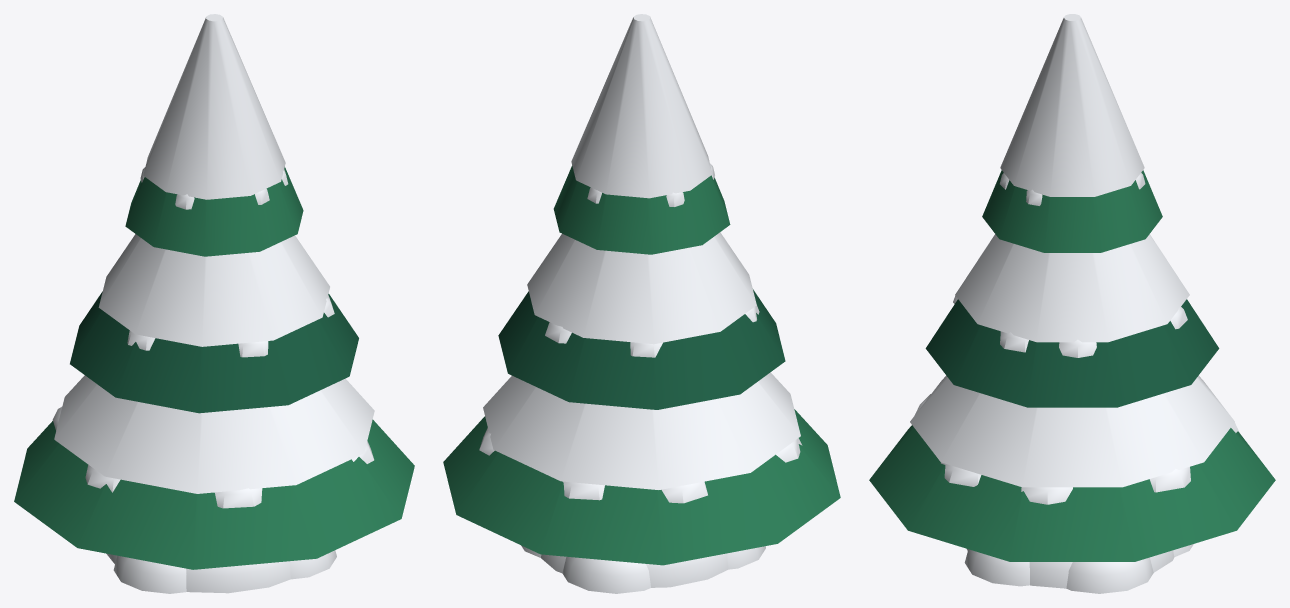
Rendered from prop_pine_snow_small.glb.
3 renders of one model, left to right at view 1: azimuth 30°, elevation 25°; view 2: azimuth 150°, elevation 25°; view 3: azimuth 270°, elevation 25°, orthographic.
Visible parts, largest first — view 1: pine_snow_small; view 2: pine_snow_small; view 3: pine_snow_small.
Part boxes in pixels (x1,y1,x2,y2): pine_snow_small: (14,14,414,593); pine_snow_small: (443,14,840,593); pine_snow_small: (869,14,1275,593).
Size of the model in its own units: 1.33 by 2.01 by 1.4.
1 material, 1 textured.
